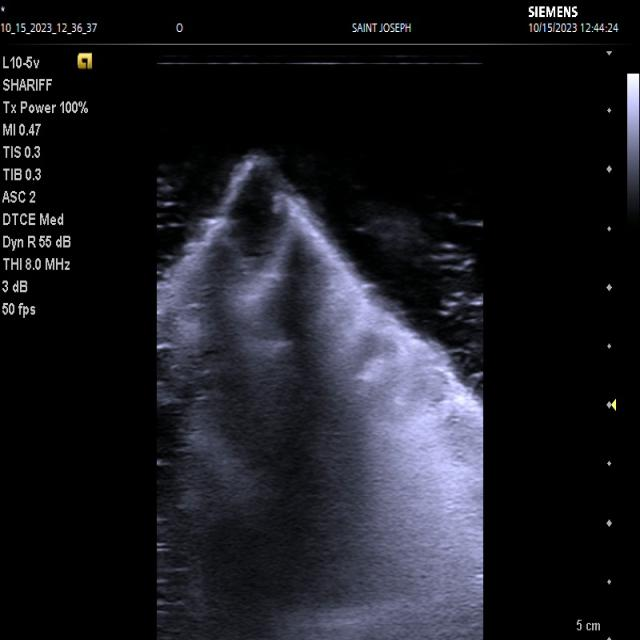tissue: (157, 153, 484, 640)
